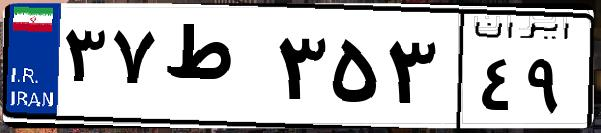3: (270, 28, 330, 110), (385, 28, 445, 110), (57, 26, 110, 100)
4: (475, 38, 525, 113)
5: (330, 28, 385, 110)
7: (110, 28, 158, 98)
9: (525, 38, 570, 115)
ط: (158, 20, 270, 120)
